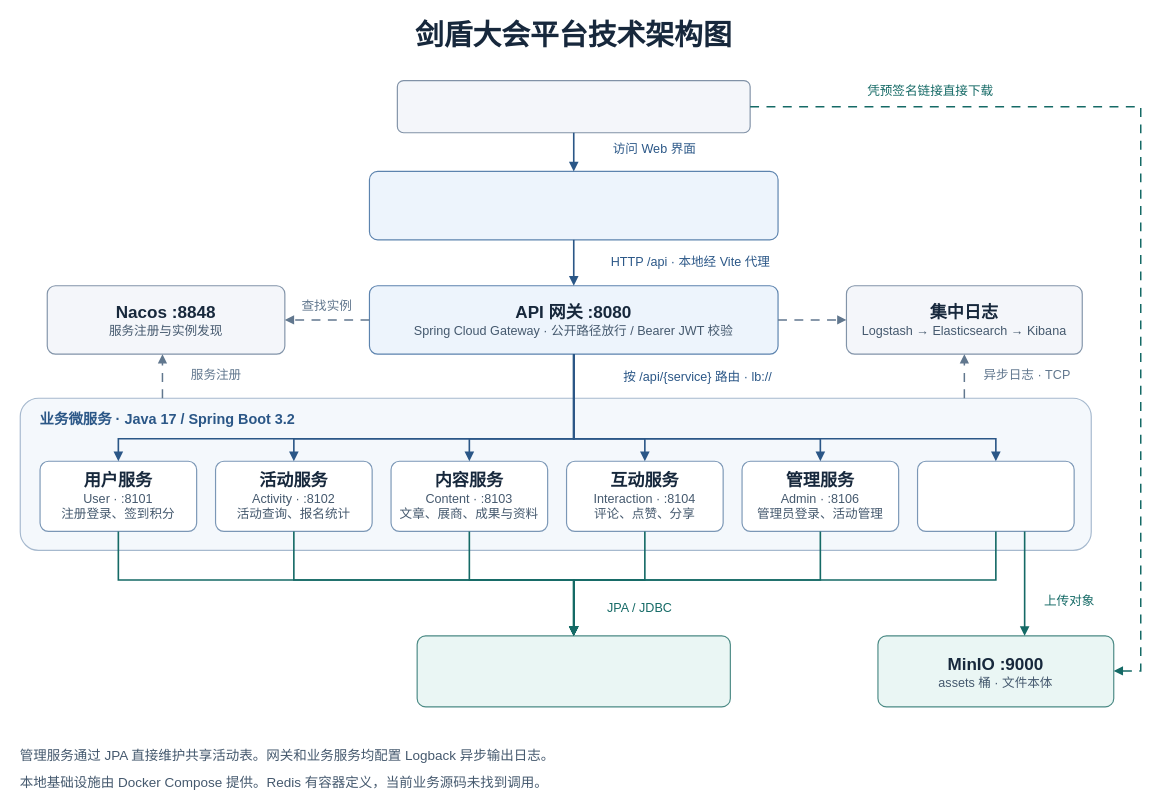
Image size: 1164x807. Some labels were removed from this diagram. Each missing label, with the box of its shape:
MySQL 8.0 :3306 共享数据库 sword_shield · 文件元数据: (416, 635, 731, 707)
大会门户与管理后台 Vue 3 · TypeScript · Element Plus · Axios: (368, 170, 778, 240)
文件服务 File · :8105 上传、签发下载链接: (917, 460, 1074, 532)
浏览器 游客 · 注册用户 · 管理员: (396, 80, 750, 133)
